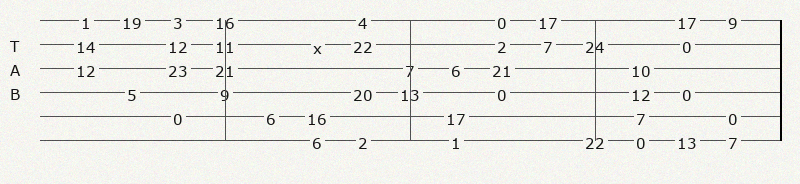0: (173, 109, 187, 124), (497, 13, 511, 28), (497, 85, 511, 100), (636, 133, 650, 148), (682, 85, 696, 100), (682, 37, 696, 52), (728, 109, 742, 124)
1: (81, 13, 95, 28), (451, 133, 465, 148)
10: (631, 61, 655, 76)
11: (215, 37, 239, 52)
12: (76, 61, 100, 76), (168, 37, 192, 52), (631, 85, 655, 100)
13: (400, 85, 424, 100), (677, 133, 701, 148)
14: (76, 37, 100, 52)
16: (215, 13, 239, 28), (307, 109, 331, 124)
17: (446, 109, 470, 124), (538, 13, 562, 28), (677, 13, 701, 28)
19: (122, 13, 146, 28)
2: (358, 133, 372, 148), (497, 37, 511, 52)
20: (353, 85, 377, 100)
21: (215, 61, 239, 76), (492, 61, 516, 76)
22: (353, 37, 377, 52), (585, 133, 609, 148)
23: (168, 61, 192, 76)
24: (585, 37, 609, 52)
3: (173, 13, 187, 28)
4: (358, 13, 372, 28)
5: (127, 85, 141, 100)
6: (266, 109, 280, 124), (312, 133, 326, 148), (451, 61, 465, 76)
7: (405, 61, 419, 76), (543, 37, 557, 52), (636, 109, 650, 124), (728, 133, 742, 148)
9: (220, 85, 234, 100), (728, 13, 742, 28)
x: (313, 38, 326, 50)
